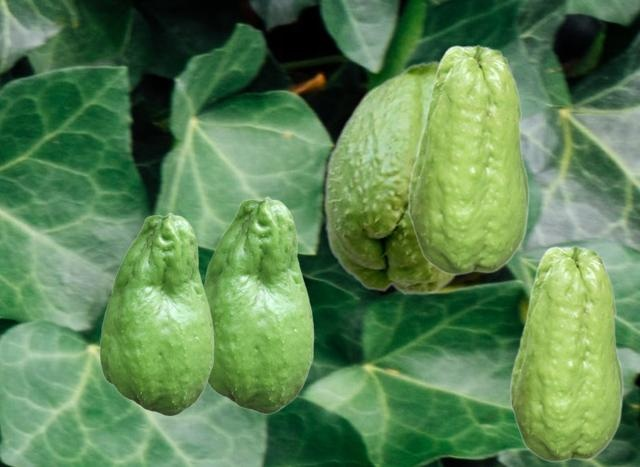sayote: (323, 59, 457, 295), (407, 44, 529, 275), (509, 245, 623, 462), (204, 196, 313, 413), (99, 212, 213, 415)
